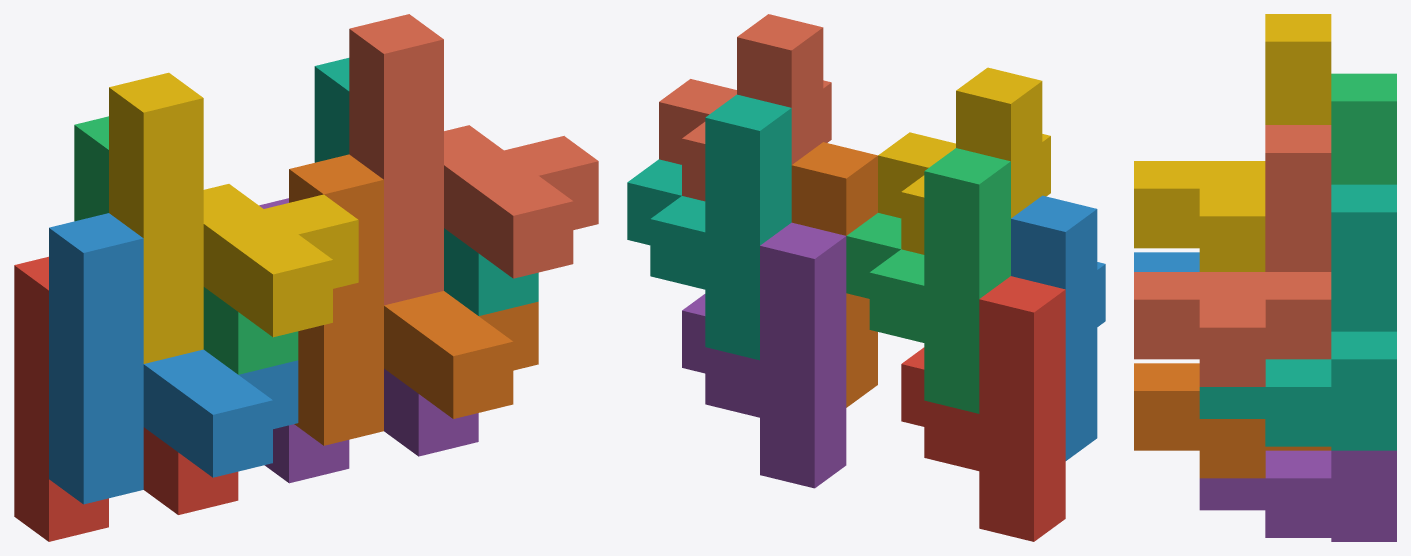
The model's file is tiling.obj.
The picture shows the model from 3 angles, left to right: view 1: azimuth 30°, elevation 25°; view 2: azimuth 150°, elevation 25°; view 3: azimuth 270°, elevation 25°; orthographic projection. The views are drawn at different scales.
Visible parts, largest first — view 1: copy_1_domain_2, copy_1_domain_4, copy_1_domain_8, copy_1_domain_6, copy_1_domain_1, copy_1_domain_7, copy_1_domain_3, copy_1_domain_5; view 2: copy_1_domain_5, copy_1_domain_1, copy_1_domain_3, copy_1_domain_7, copy_1_domain_8, copy_1_domain_4, copy_1_domain_2, copy_1_domain_6; view 3: copy_1_domain_8, copy_1_domain_7, copy_1_domain_4, copy_1_domain_5, copy_1_domain_6, copy_1_domain_3, copy_1_domain_2.
Boxes of the visible parts, left/top/right/bottom form: copy_1_domain_2: left=49, top=213, right=298, bottom=504; copy_1_domain_4: left=109, top=72, right=358, bottom=363; copy_1_domain_8: left=349, top=14, right=598, bottom=305; copy_1_domain_6: left=289, top=154, right=538, bottom=445; copy_1_domain_1: left=14, top=256, right=238, bottom=541; copy_1_domain_7: left=314, top=58, right=538, bottom=315; copy_1_domain_3: left=74, top=116, right=298, bottom=374; copy_1_domain_5: left=259, top=198, right=478, bottom=483; copy_1_domain_5: left=682, top=222, right=846, bottom=488; copy_1_domain_1: left=901, top=276, right=1065, bottom=541; copy_1_domain_3: left=846, top=148, right=1010, bottom=413; copy_1_domain_7: left=627, top=94, right=791, bottom=360; copy_1_domain_8: left=659, top=14, right=831, bottom=201; copy_1_domain_4: left=878, top=67, right=1050, bottom=254; copy_1_domain_2: left=1011, top=195, right=1105, bottom=460; copy_1_domain_6: left=791, top=142, right=877, bottom=407; copy_1_domain_8: left=1134, top=125, right=1331, bottom=386; copy_1_domain_7: left=1199, top=184, right=1396, bottom=450; copy_1_domain_4: left=1134, top=14, right=1331, bottom=271; copy_1_domain_5: left=1199, top=450, right=1396, bottom=541; copy_1_domain_6: left=1134, top=363, right=1331, bottom=478; copy_1_domain_3: left=1331, top=73, right=1396, bottom=184; copy_1_domain_2: left=1134, top=252, right=1199, bottom=271.
Bounding box in the file's own units: 8 × 7 × 4.
